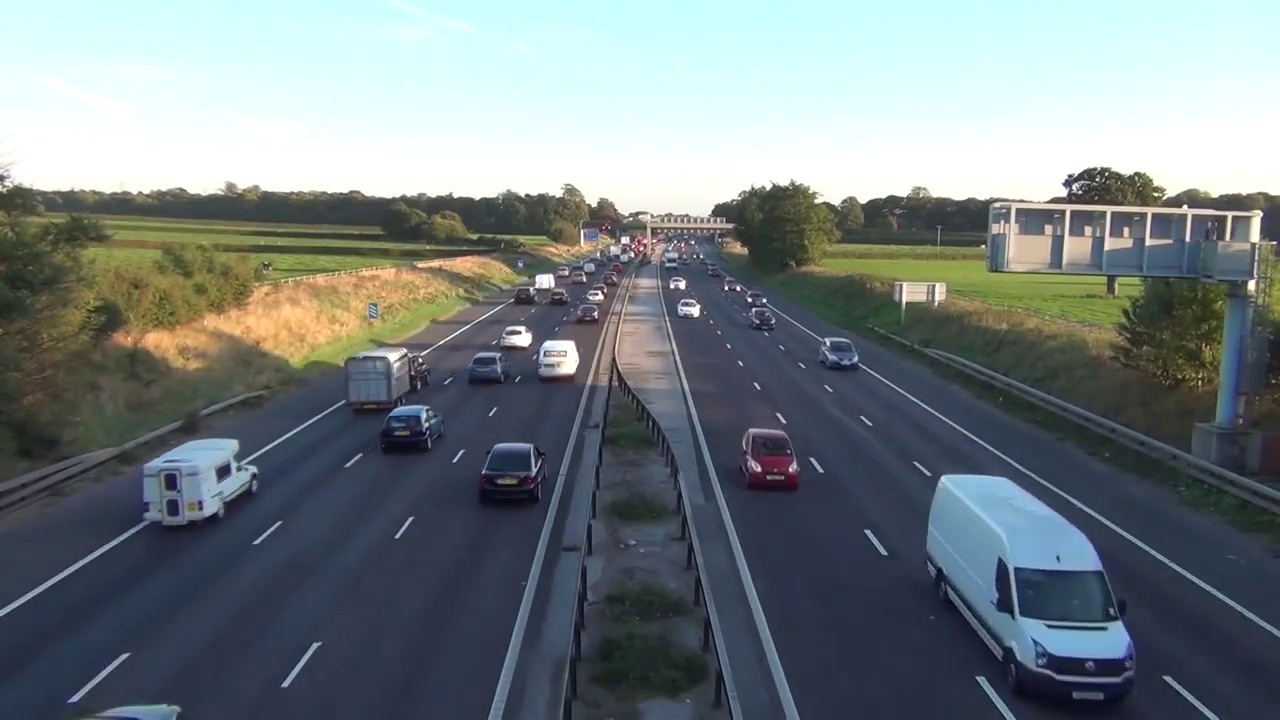bus: (925, 474, 1134, 705), (142, 439, 260, 529), (479, 442, 548, 502), (742, 428, 801, 489), (379, 406, 446, 452), (536, 338, 580, 378), (819, 337, 859, 369), (469, 352, 507, 383), (501, 324, 533, 350), (409, 355, 432, 391), (748, 308, 777, 331), (676, 298, 700, 319), (575, 304, 599, 324), (745, 292, 770, 308), (723, 278, 741, 292), (669, 277, 687, 289)
